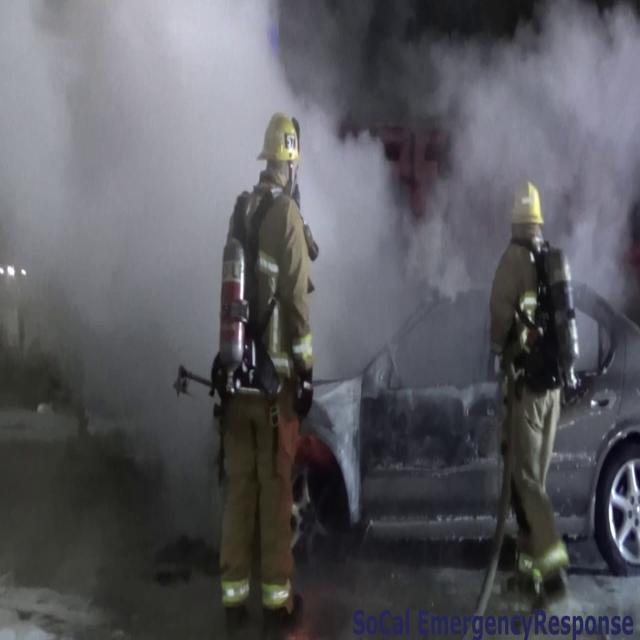Smoke: (5, 0, 387, 369), (411, 0, 640, 401)
